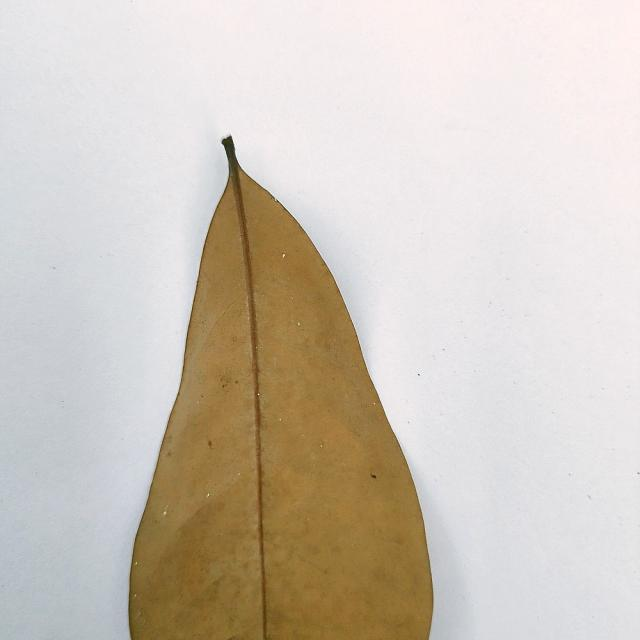Dry_Leaf-Lychee: (127, 138, 435, 639)
